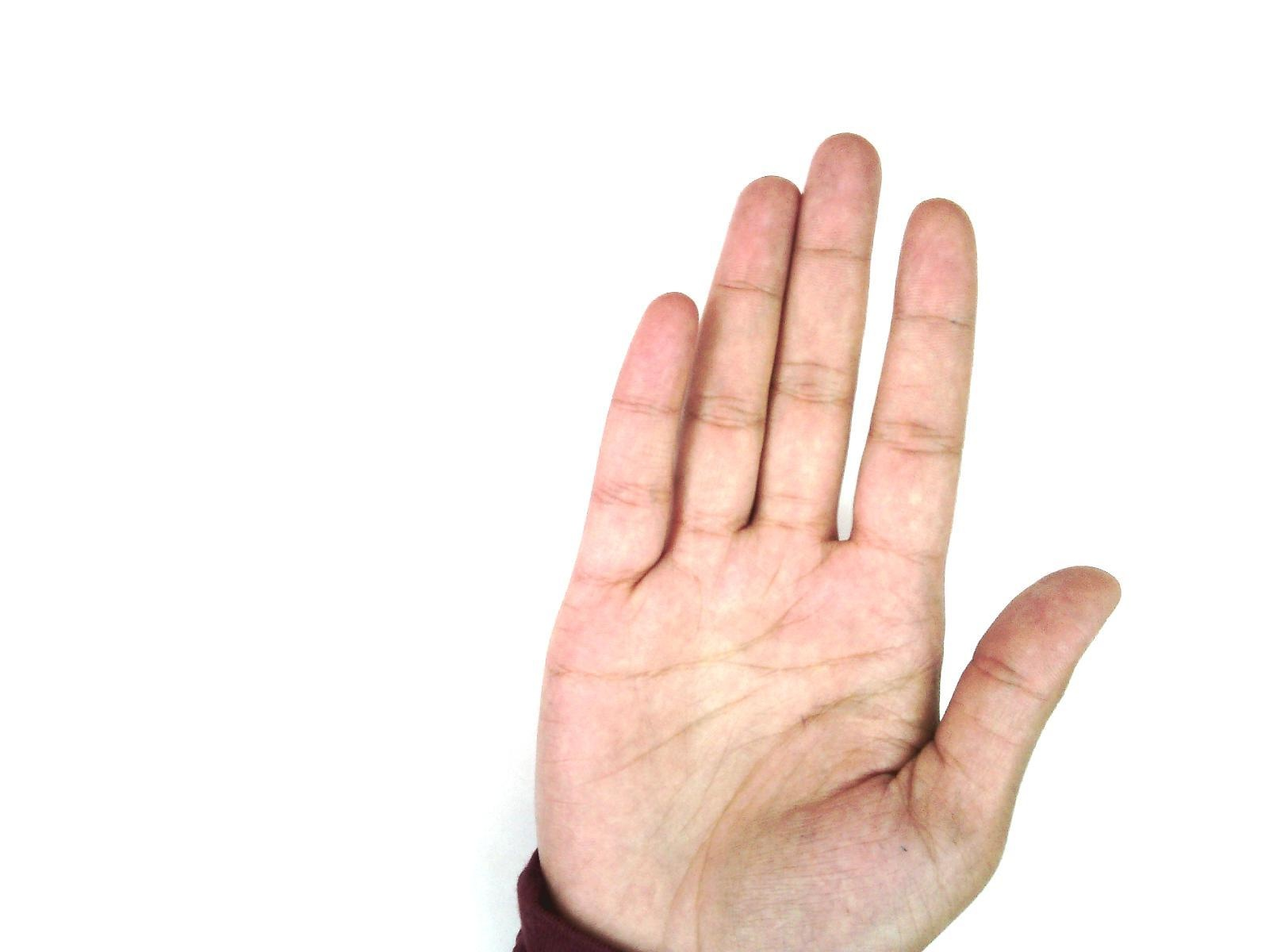open_palm: (524, 132, 1124, 951)
